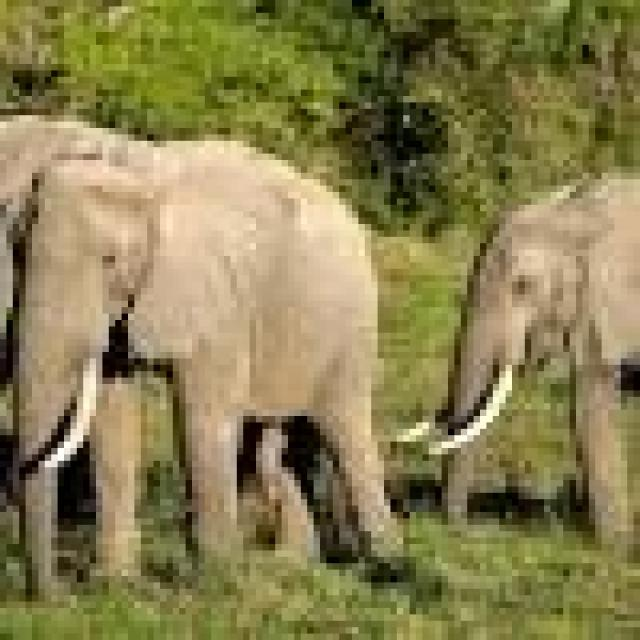Elephant: (0, 121, 378, 556)
